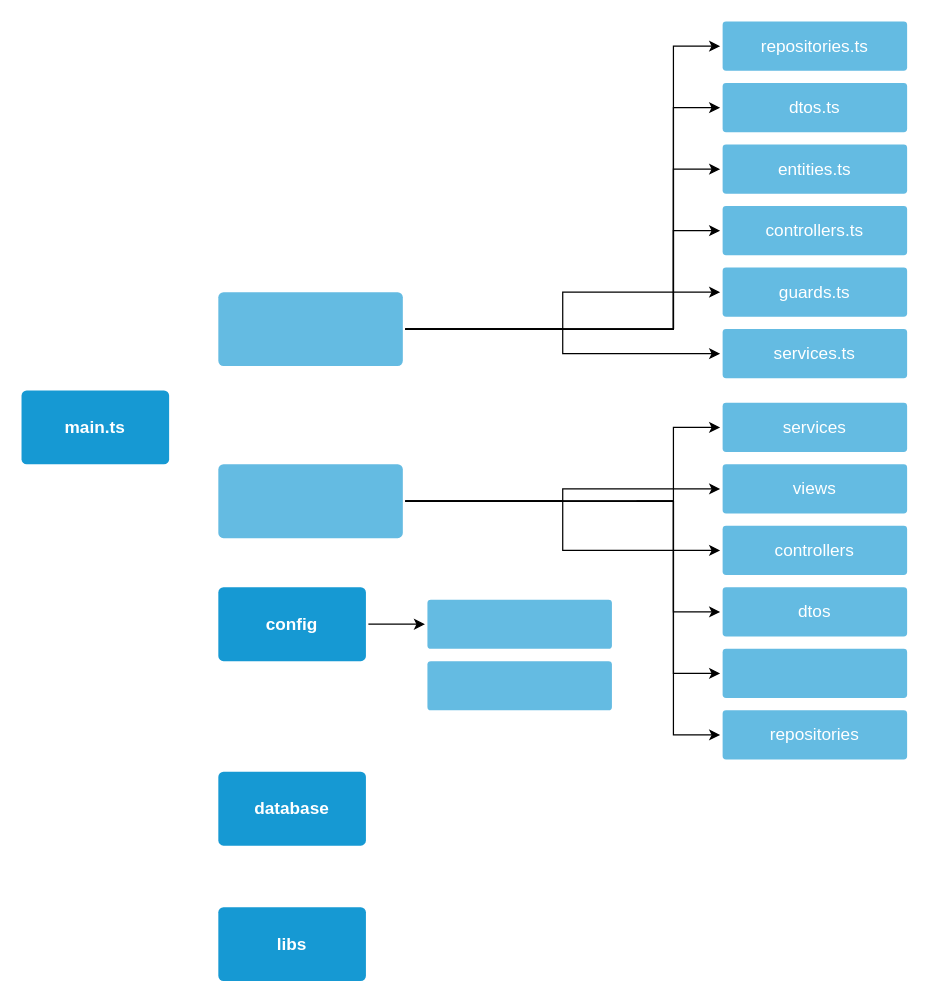
This 927x1001 diagram has some shape labels left out. Each missing label, with the centre of its shape:
"database.ts" belongs at (519,685).
"entities" belongs at (814,672).
"environment.ts" belongs at (519,623).
"moduleA" belongs at (310,501).
"shared" belongs at (310,328).
